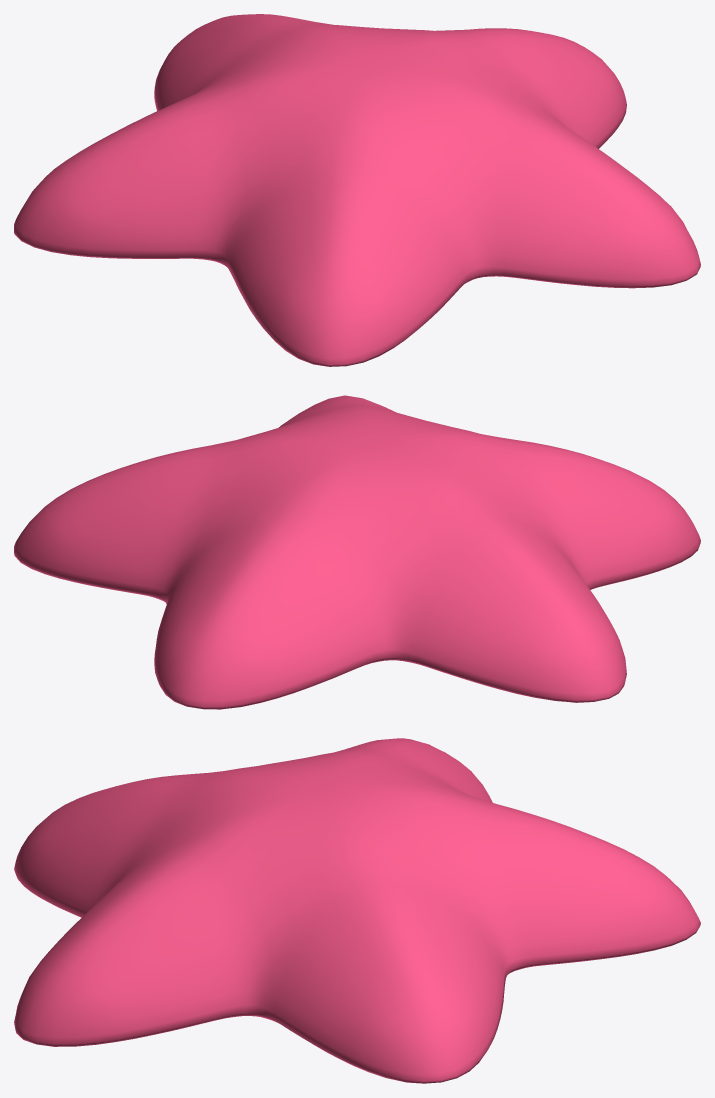
File: starFish.glb
The picture shows the model from 3 angles, top to bottom: view 1: azimuth 30°, elevation 25°; view 2: azimuth 150°, elevation 25°; view 3: azimuth 270°, elevation 25°; orthographic projection. The views are drawn at different scales.
Visible parts, largest first — view 1: node_id60; view 2: node_id60; view 3: node_id60.
Boxes of the visible parts, x1,y1,x2,y2 form: node_id60: [14, 14, 700, 366]; node_id60: [14, 395, 700, 709]; node_id60: [14, 738, 700, 1083].
Bounding box in the file's own units: 0.512 × 0.1291 × 0.4908.
1 material, 1 textured.
